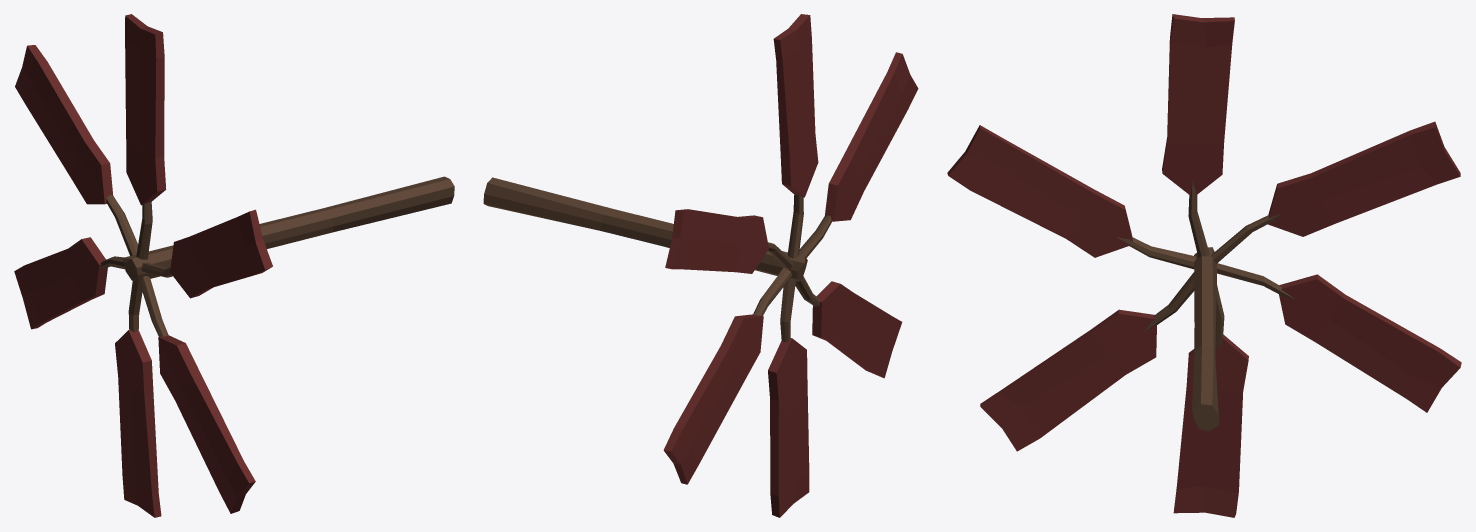
The model's file is windmill-blades.fbx.
3 renders of one model, left to right at view 1: azimuth 30°, elevation 25°; view 2: azimuth 150°, elevation 25°; view 3: azimuth 270°, elevation 25°, orthographic. The views are drawn at different scales.
Visible parts, largest first — view 1: windmill-blades; view 2: windmill-blades; view 3: windmill-blades.
Boxes of the visible parts, x1,y1,x2,y2 form: windmill-blades: [14, 14, 454, 517]; windmill-blades: [483, 14, 918, 517]; windmill-blades: [947, 14, 1461, 517].
Bounding box in the file's own units: 1.24 × 1.79 × 1.67.
